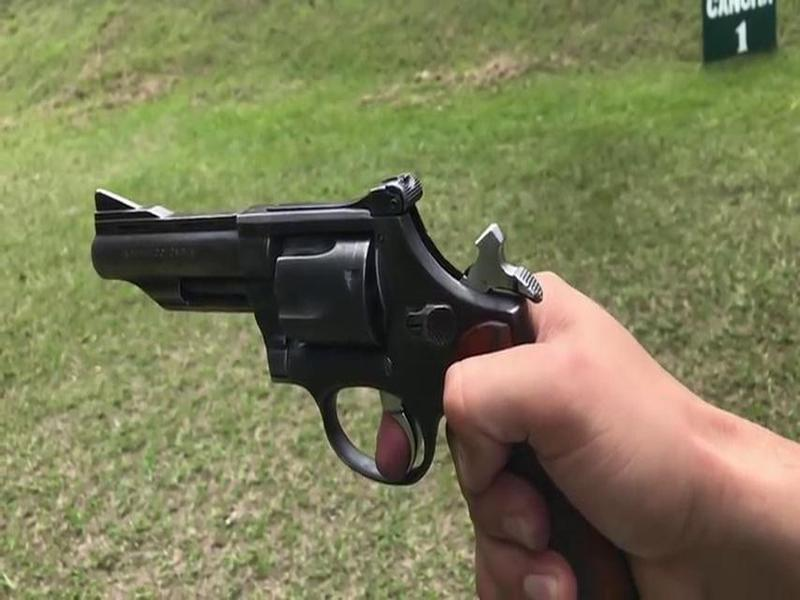Revolver: (71, 137, 619, 585)
